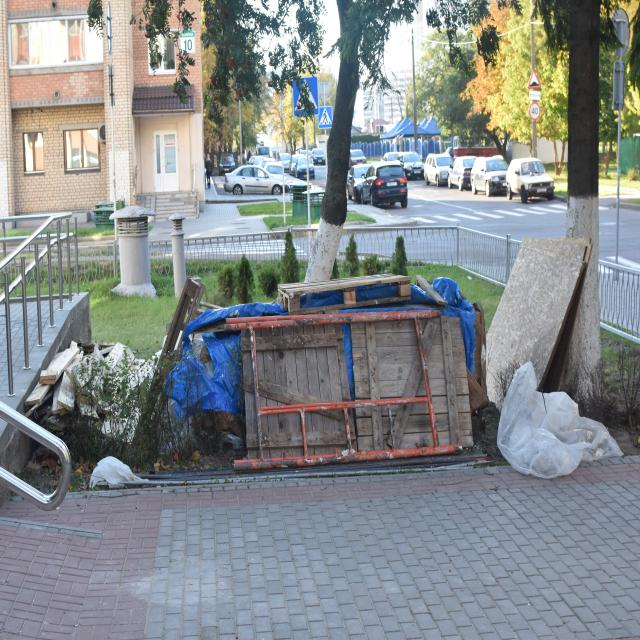entulho: (170, 268, 491, 485), (481, 230, 595, 412), (498, 354, 626, 479), (87, 453, 152, 495)
restos de madeira: (20, 324, 164, 446)
